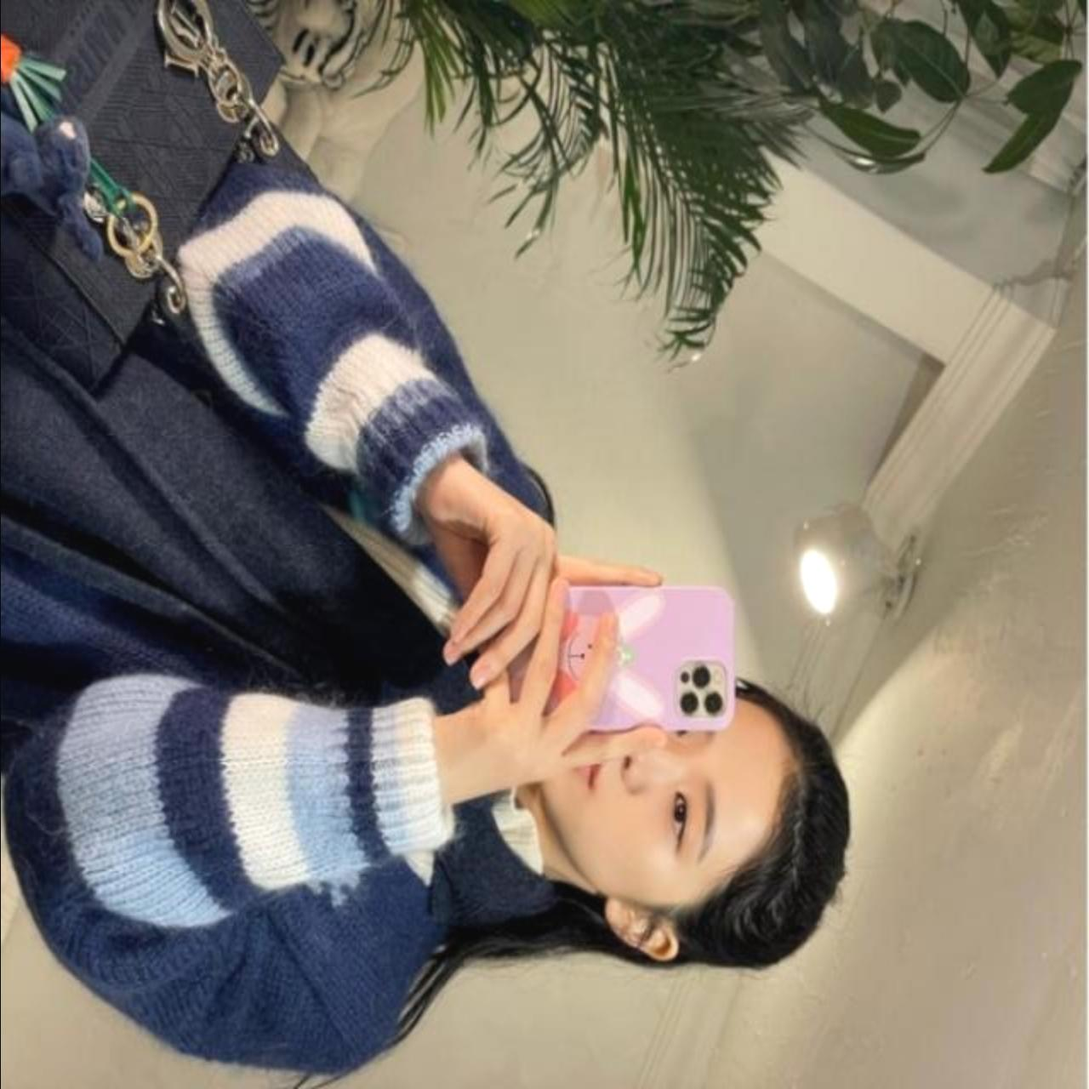phone: (488, 584, 733, 733)
